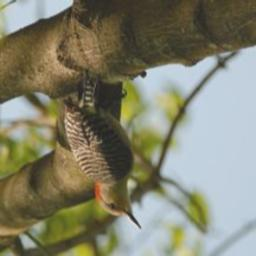Woodpecker: (64, 70, 143, 230)
